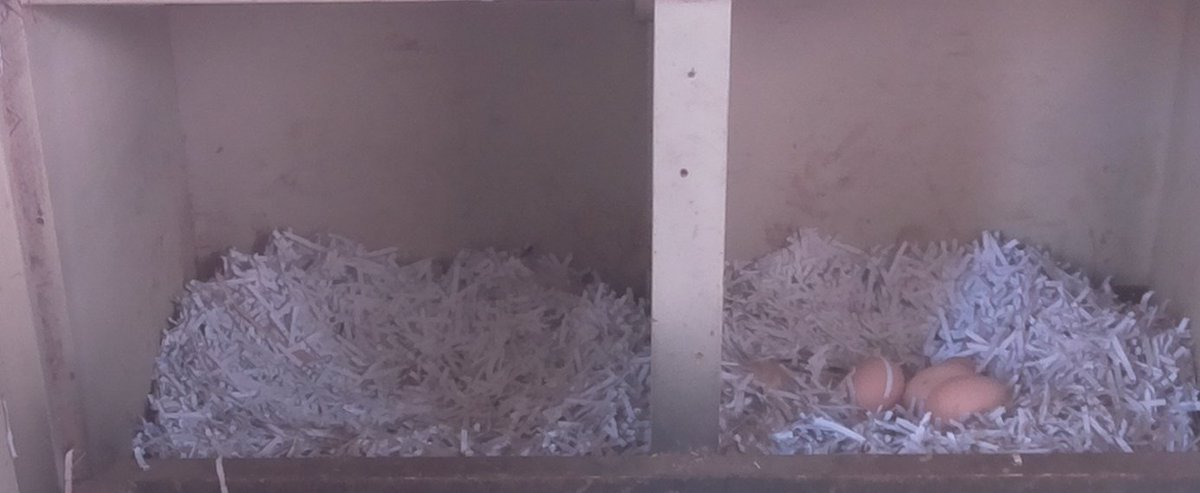egg: (927, 372, 1013, 429), (844, 351, 907, 419), (900, 358, 980, 410)
